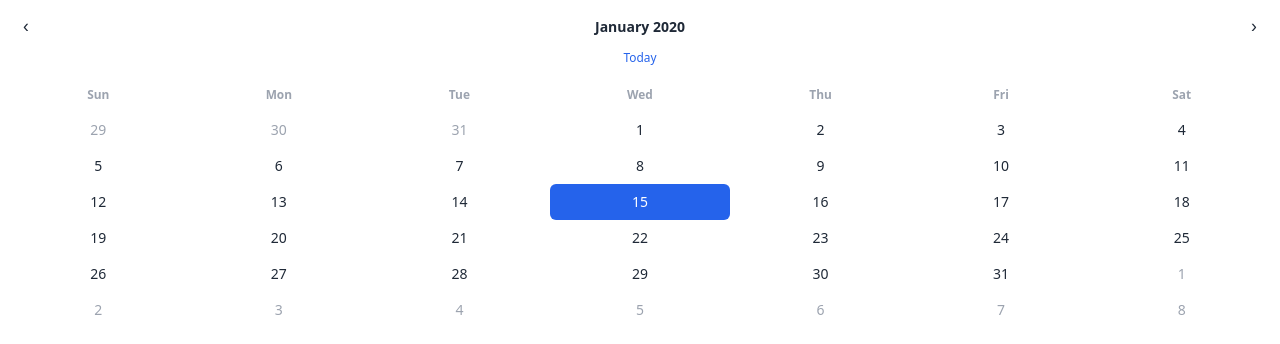
Test: CalendarWidget Today button › returns to day view when clicked from month/year picker
Open month picker
Click the button with aria-label "choose month and year".
click(640, 27)  # box [587, 16, 693, 38]
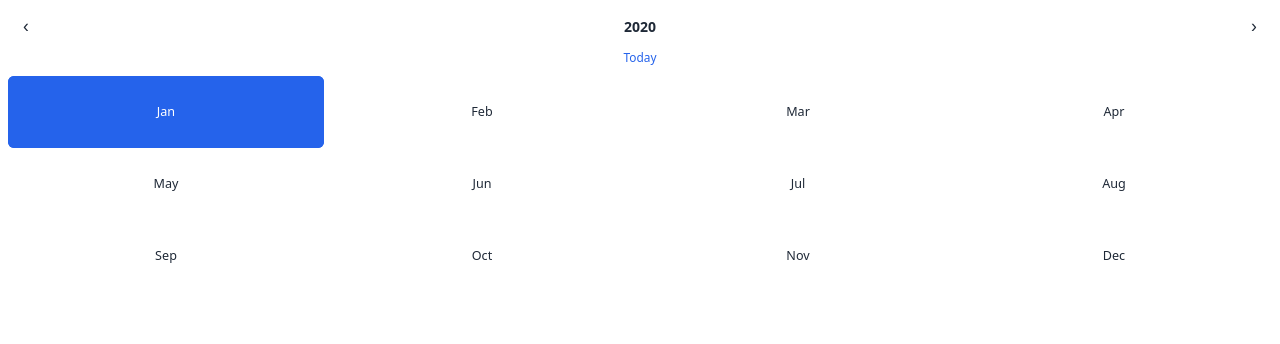
expect the table named "month picker" is shown: met
Click Today - should go back to day view at current month
Click the button with aria-label "Navigate to current month".
click(640, 57)  # box [616, 47, 664, 68]
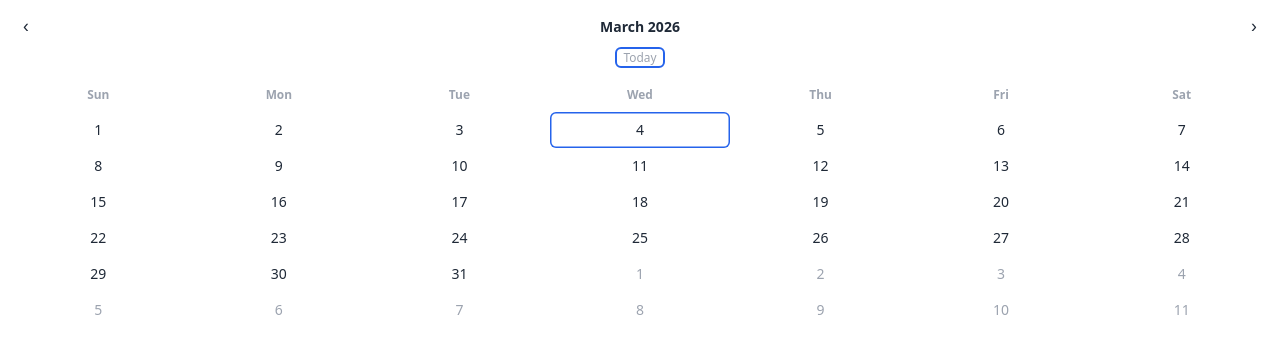
expect the table named "Calendar" is shown: met
